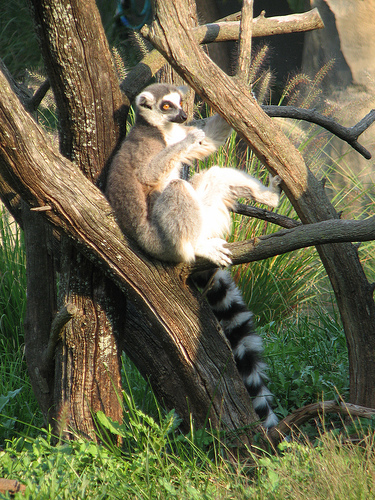cat: (107, 85, 285, 425)
